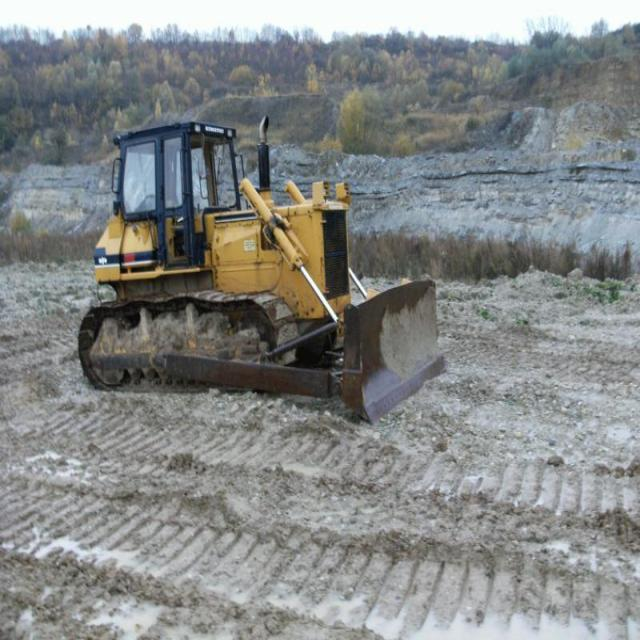bull_dozer/loader/grader: (60, 86, 464, 430)
